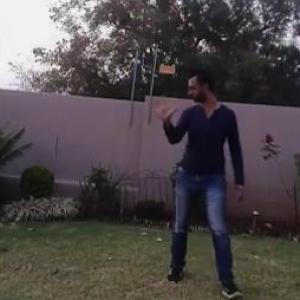follow_hand: (149, 91, 179, 124)
